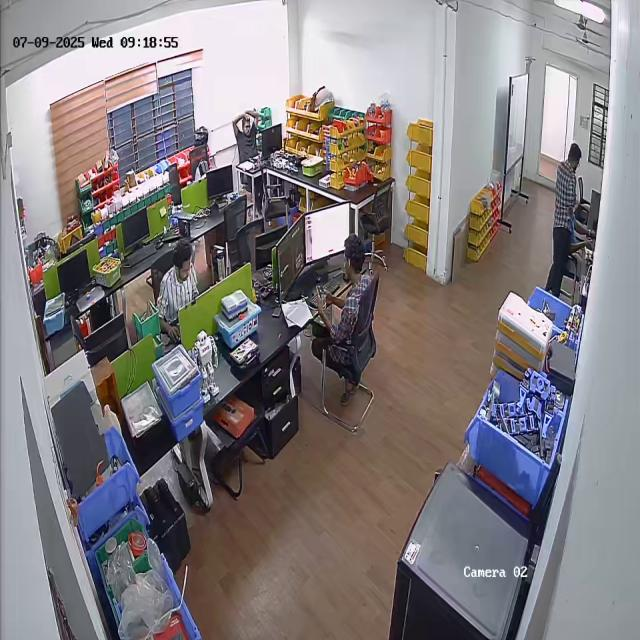person: (538, 136, 582, 298), (325, 235, 374, 341), (158, 238, 208, 338), (224, 107, 264, 159)
